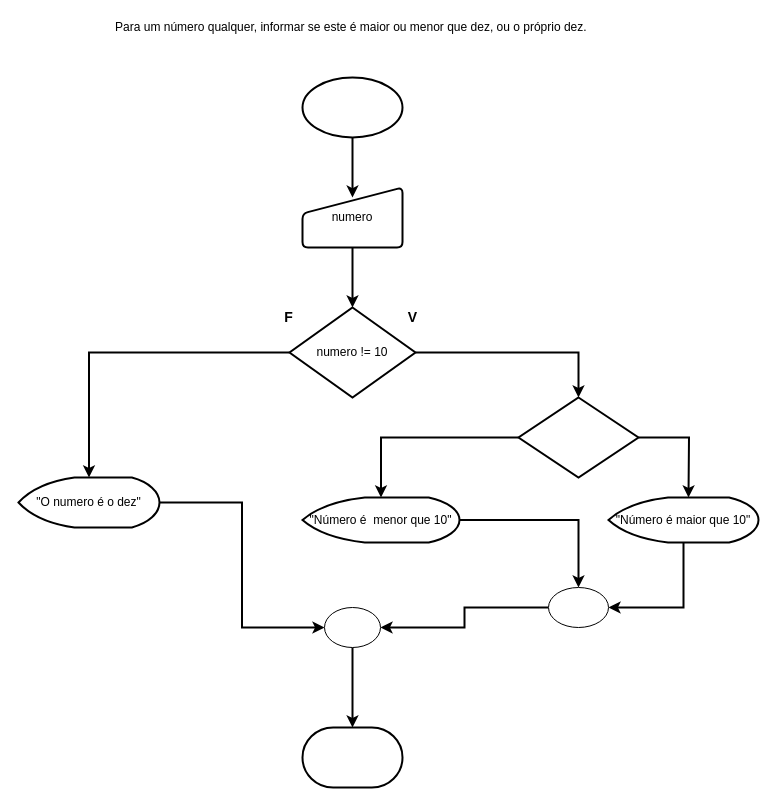
Image size: 776x805. Some labels were removed from this diagram. Here are the shapes that lost their labels. From the top down, the centre of each, then its label:
(352,107): Inicio
(578,437): numero < 10
(352,757): FIM
